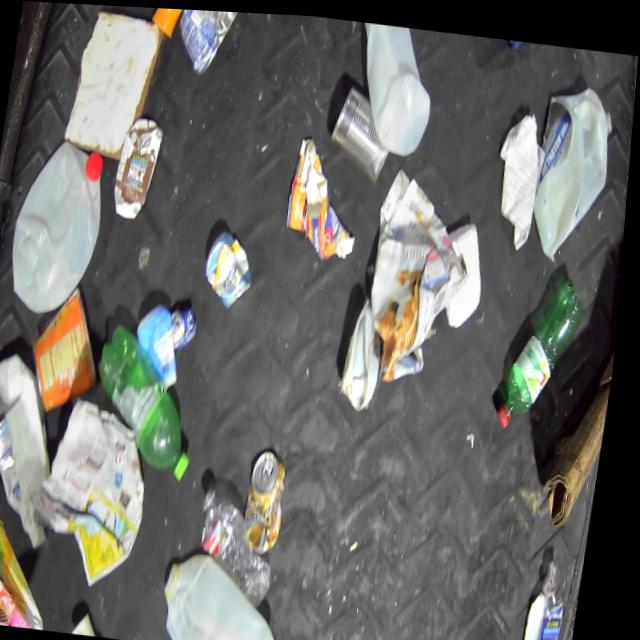can: (29, 278, 113, 416), (325, 78, 399, 181), (203, 226, 261, 308), (172, 7, 239, 76), (171, 300, 203, 347)
milk_jug: (6, 134, 113, 317), (528, 74, 621, 256), (0, 348, 78, 549), (344, 17, 441, 152), (165, 545, 296, 640), (111, 112, 166, 220), (341, 293, 392, 407)
plastic_bottle: (196, 482, 291, 604), (528, 551, 578, 640)
